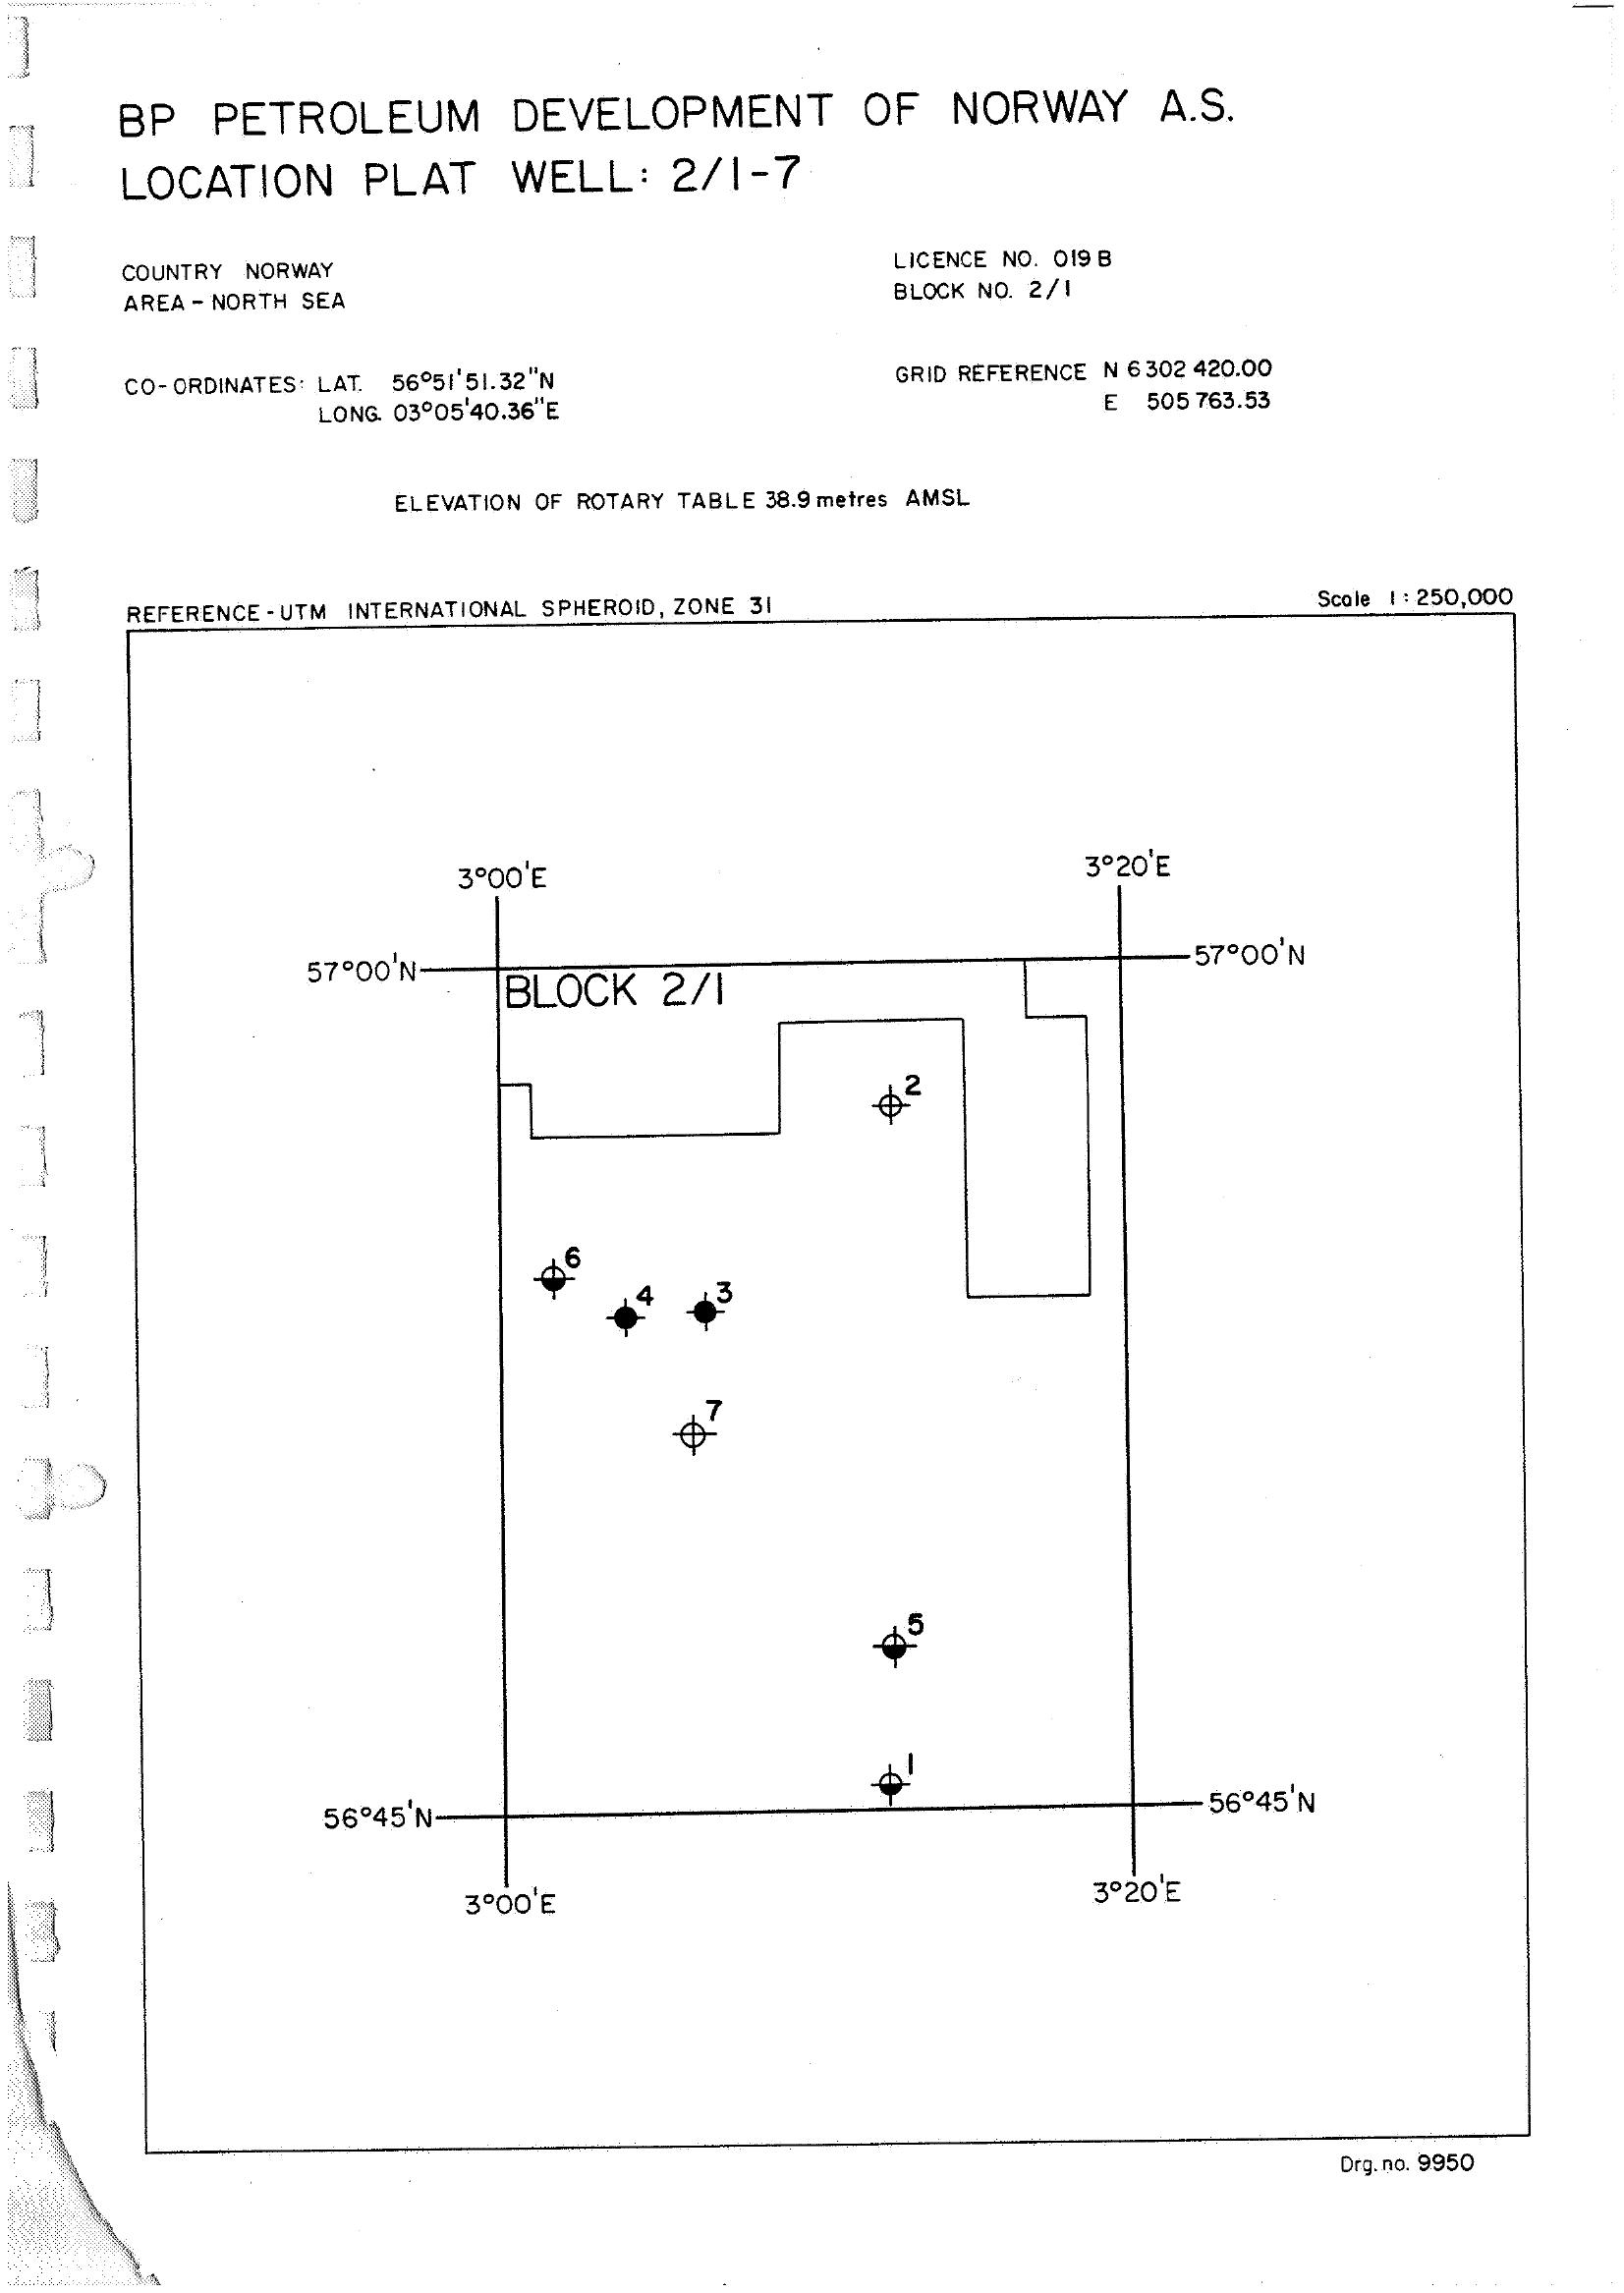graph: (97, 576, 1552, 2188)
text: (102, 237, 1315, 546), (90, 70, 1262, 216)
